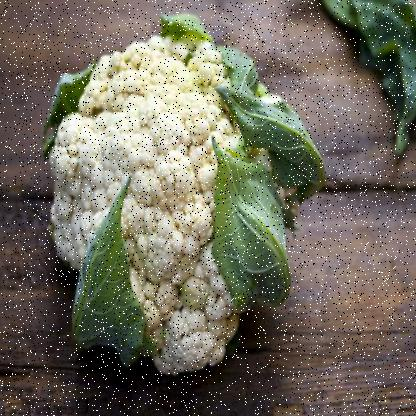cauliflower: (43, 14, 317, 372)
